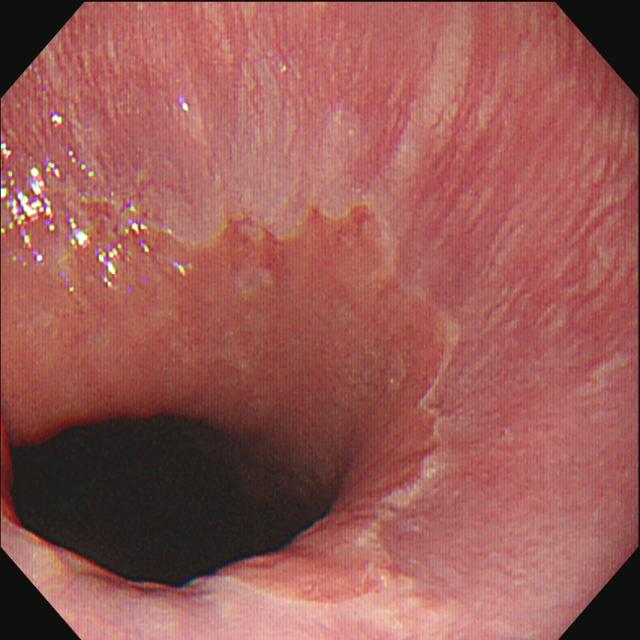D: (215, 205, 284, 286)
E: (8, 410, 339, 593)
I: (2, 170, 483, 623)
U: (2, 113, 154, 294)
